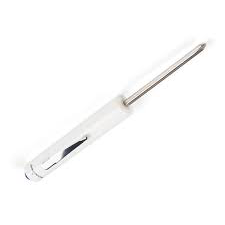screwdriver: (19, 41, 209, 187)
